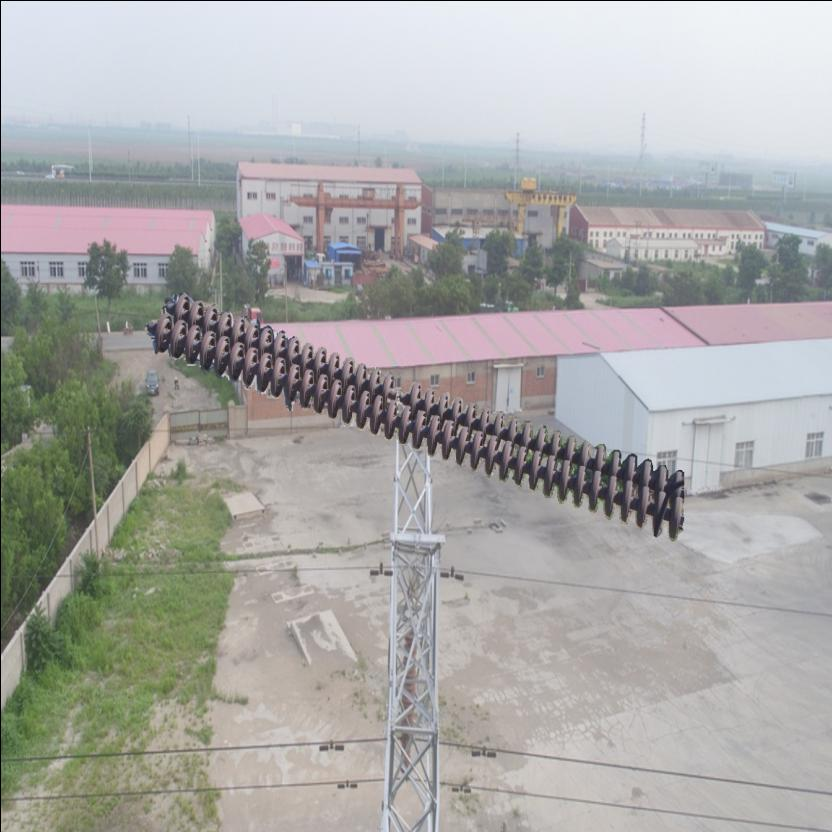defect: (379, 372, 423, 412)
